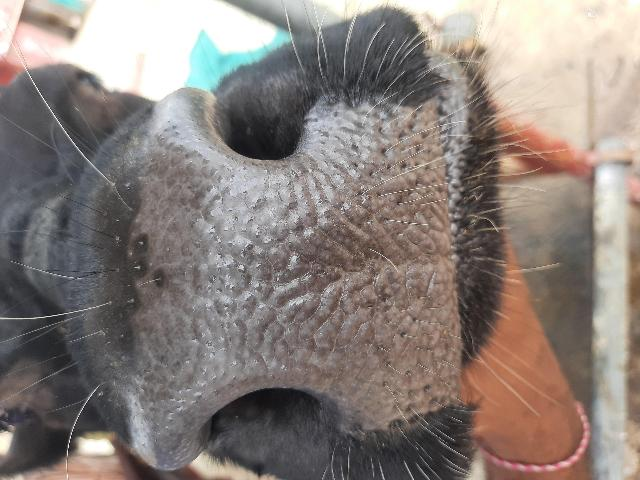Muzzle: (135, 157, 467, 385)
